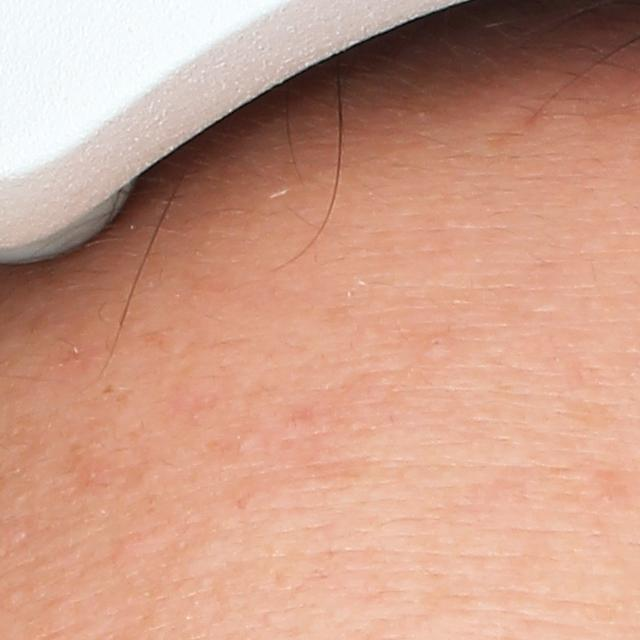comedo: (425, 332, 450, 353)
